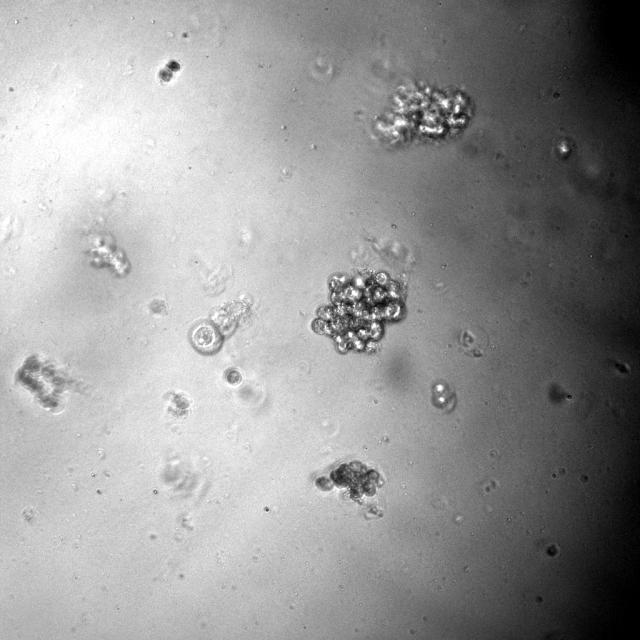organoid: (311, 271, 406, 351), (373, 81, 473, 148), (15, 353, 89, 414), (188, 296, 251, 354), (314, 459, 383, 502), (85, 234, 130, 277), (163, 389, 193, 423), (431, 380, 456, 412), (158, 59, 181, 84), (223, 366, 244, 388)
